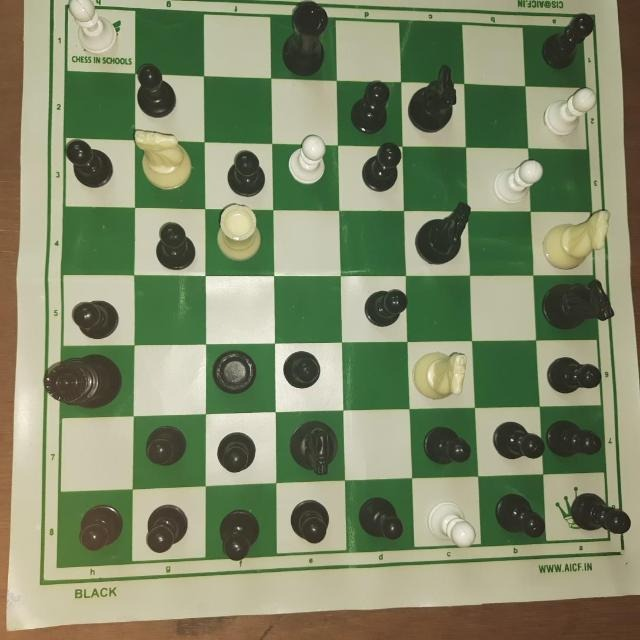black-knight: (534, 275, 618, 329), (409, 63, 469, 138), (281, 416, 346, 478), (413, 202, 477, 264)
black-pawn: (562, 480, 633, 542), (535, 10, 597, 77), (482, 486, 545, 543), (483, 412, 545, 469), (63, 287, 127, 341), (346, 493, 408, 548), (542, 410, 606, 463), (279, 493, 338, 550), (210, 502, 262, 565), (344, 81, 399, 139), (145, 219, 203, 273), (140, 506, 200, 558), (63, 137, 117, 193), (205, 423, 260, 475), (420, 421, 477, 471), (66, 507, 130, 551), (542, 352, 606, 396), (130, 64, 180, 120), (356, 138, 404, 196), (358, 283, 416, 327), (225, 148, 270, 204), (136, 424, 192, 468), (282, 347, 329, 388)
black-queen: (34, 350, 127, 411)
black-rook: (272, 0, 335, 78), (209, 344, 261, 398)
white-knight: (535, 205, 611, 269), (126, 127, 195, 193), (406, 341, 472, 405)
white-pawn: (54, 0, 123, 61), (530, 85, 595, 145), (419, 493, 478, 555), (490, 153, 550, 205), (283, 132, 334, 189)
white-rook: (206, 201, 268, 266)
